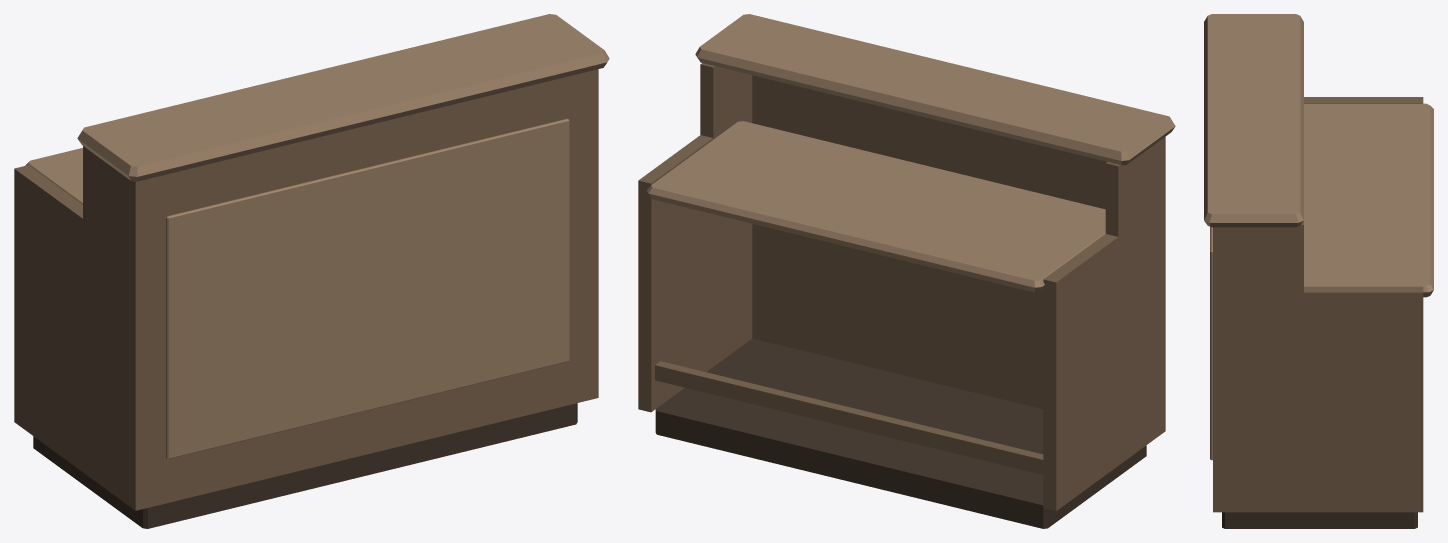
File: Gazette_Reception_Desk.fbx
3 renders of one model, left to right at view 1: azimuth 30°, elevation 25°; view 2: azimuth 150°, elevation 25°; view 3: azimuth 270°, elevation 25°, orthographic. The views are drawn at different scales.
Parts seen in each view (by area): view 1: Gazette_Reception_Desk; view 2: Gazette_Reception_Desk; view 3: Gazette_Reception_Desk.
Part boxes in pixels (box(x1,y1,x2,y2)): Gazette_Reception_Desk: box(14, 14, 609, 528); Gazette_Reception_Desk: box(638, 14, 1175, 528); Gazette_Reception_Desk: box(1204, 14, 1433, 528).
Bounding box in the file's own units: 1.35 × 1 × 0.645.
